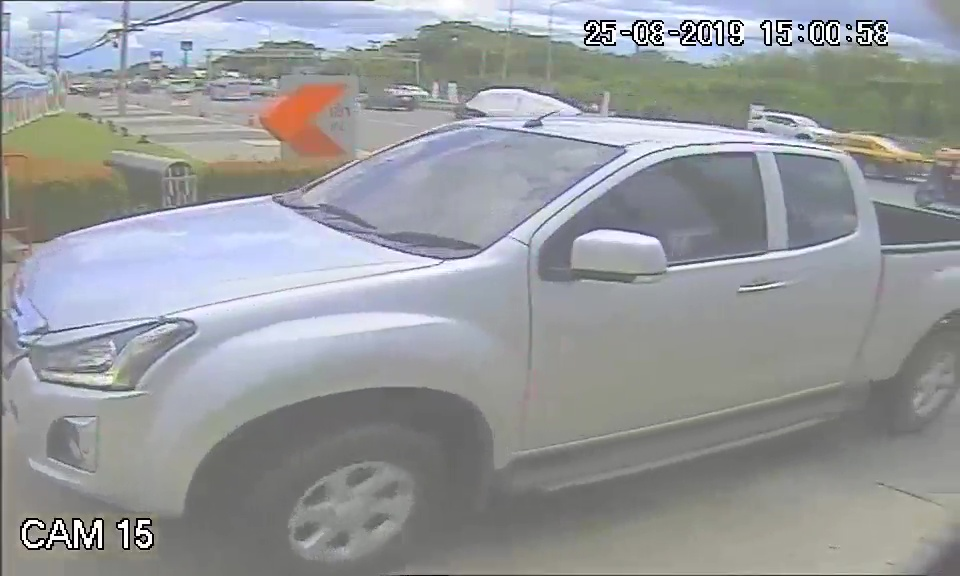pickup: (14, 117, 881, 539)
